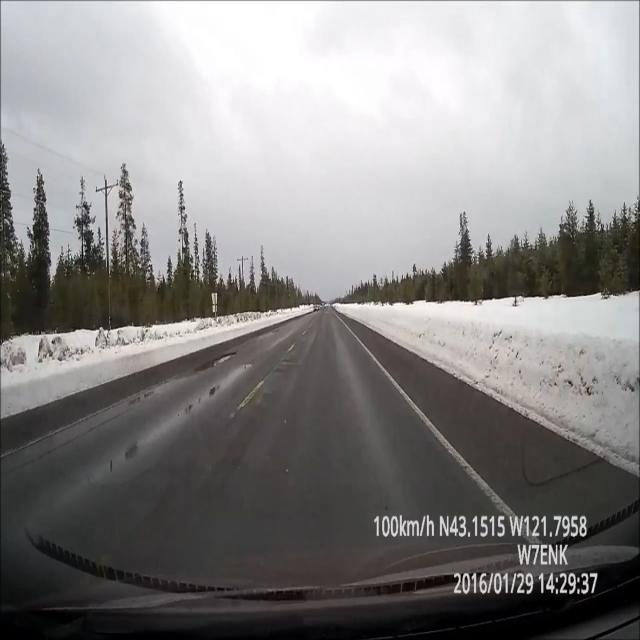Pothole: (197, 350, 237, 375)
